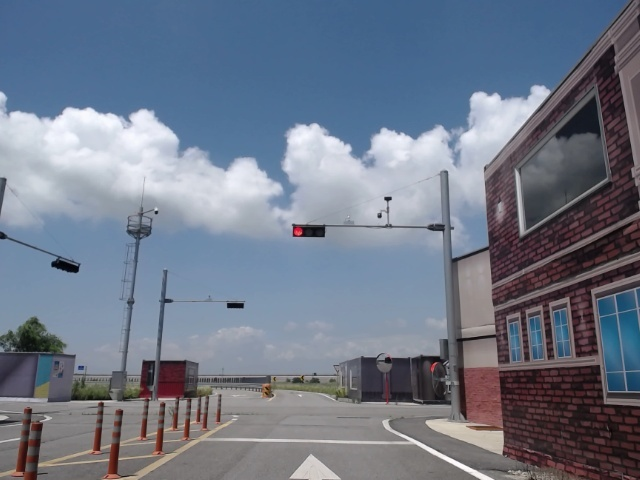red_3: (292, 225, 326, 239)
